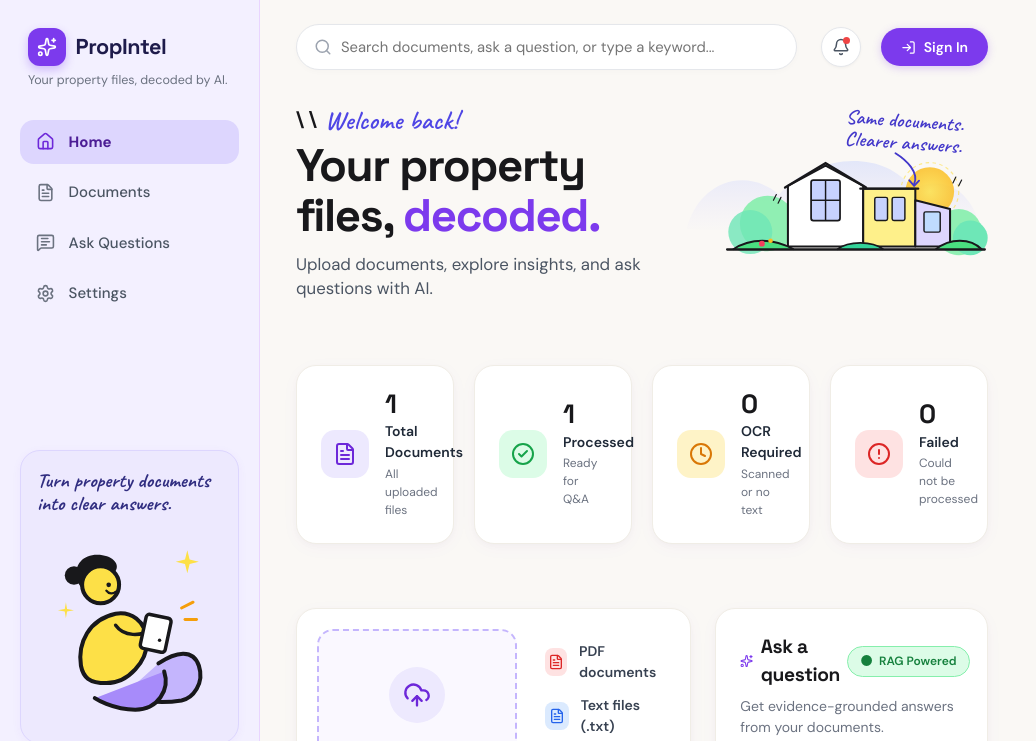
Test: App Routing & Shell Tests › navigates to Documents page when clicking Documents nav item
Click the button "Documents" at (130, 192), box [20,170,239,214]
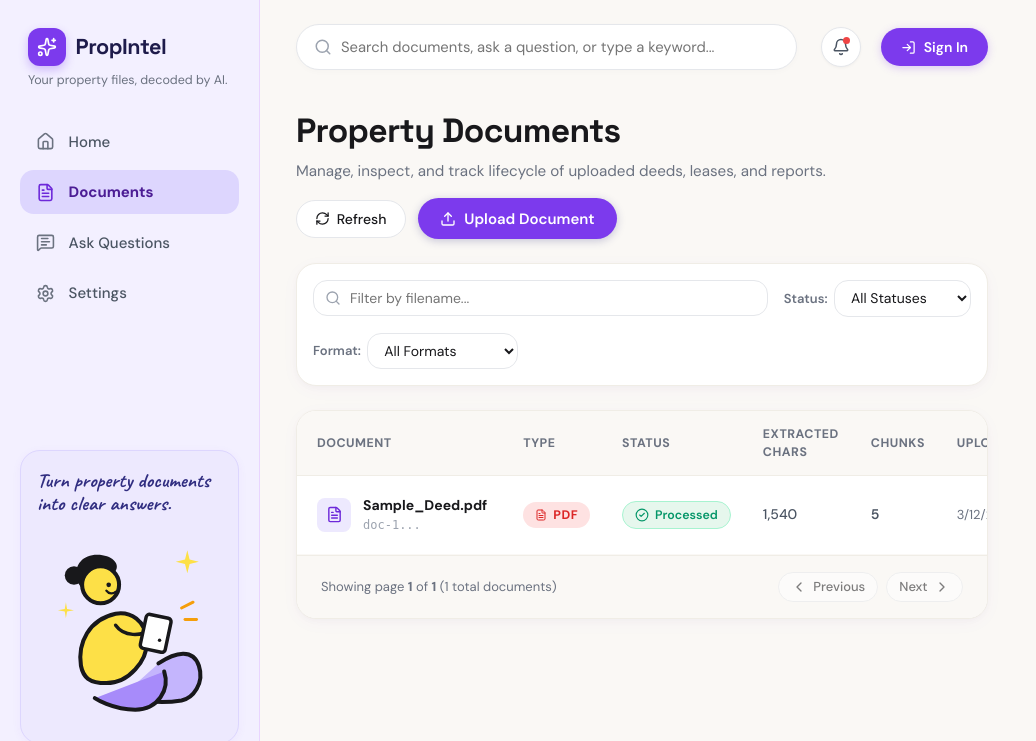
Check: the heading "Property Documents" is shown, box [296,109,620,152]
